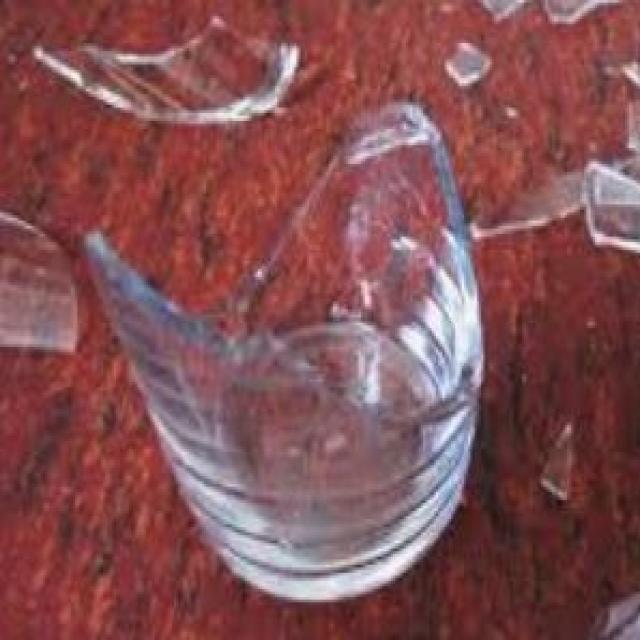electronic: (80, 95, 489, 610)
